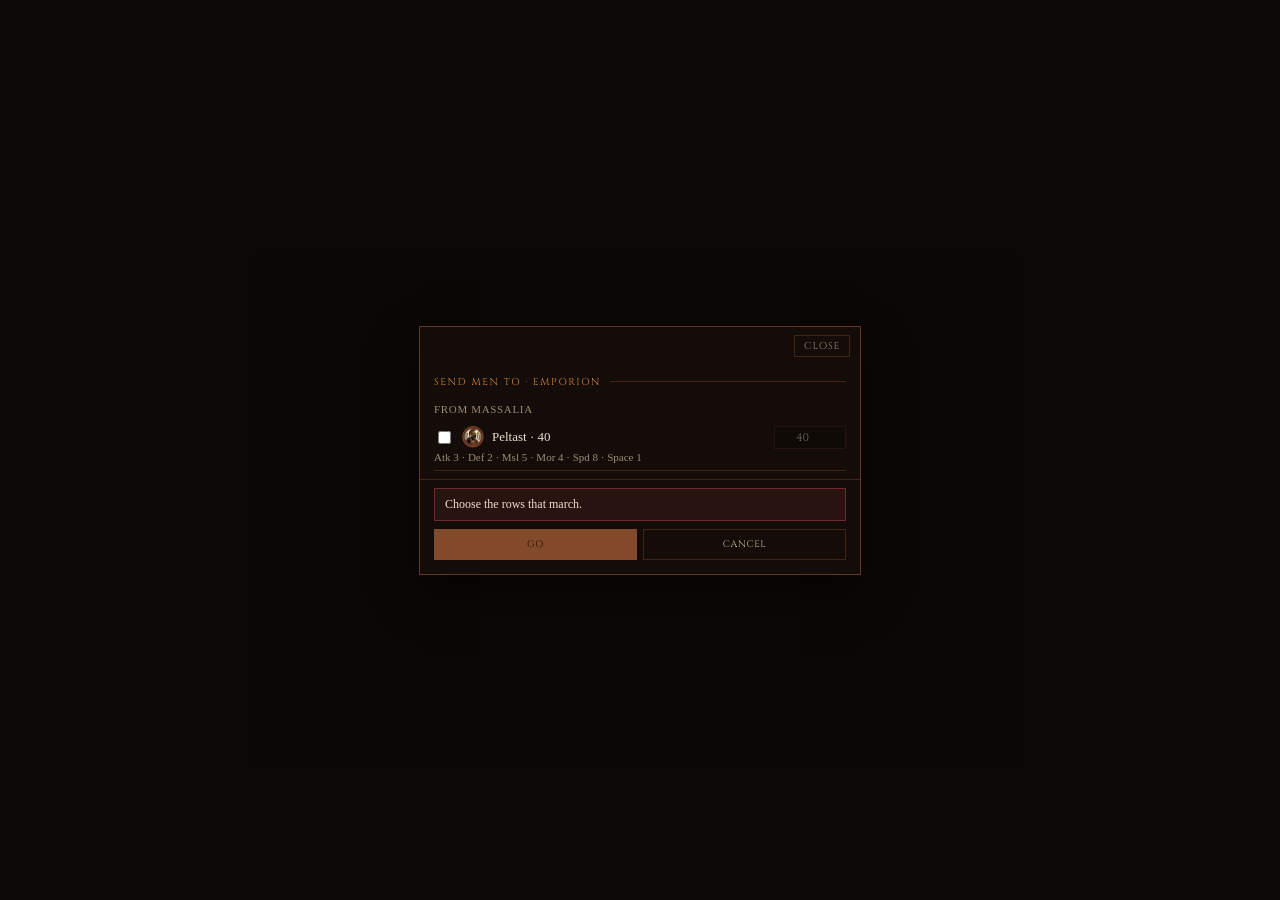
action picker · ships section › a sea move names the hulls that will sail and their supplies
Step 1. Click the checkbox named "Peltast, 40" → click(444, 437), box [438, 430, 451, 444]
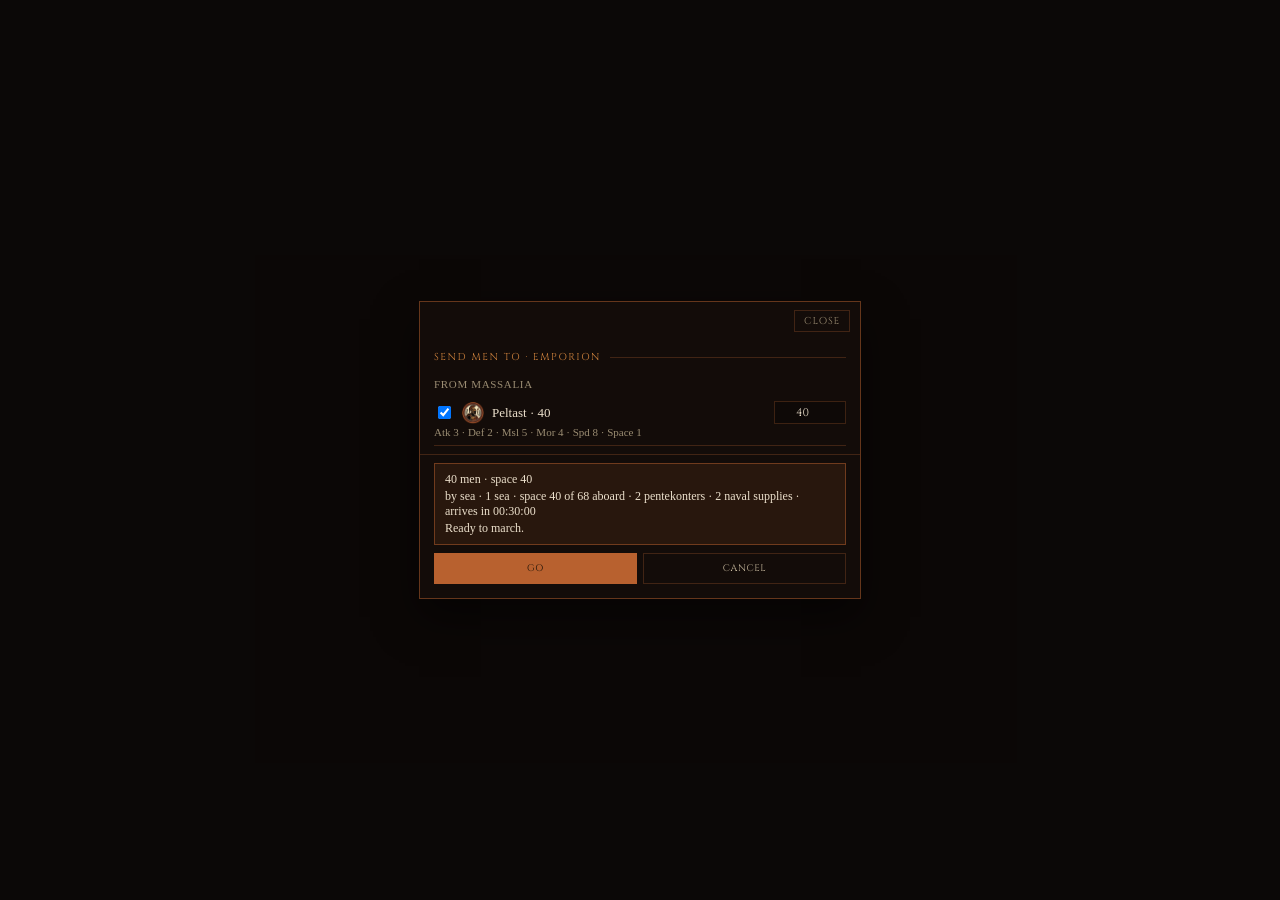
Check: the element with class "w2map-verdict" shows "by sea · 1 sea · space 40 of 68 aboard · 2 pentekonters", box [445, 489, 705, 503]
Check: the element with class "w2map-verdict" shows "· 2 naval supplies", box [705, 489, 793, 503]
Check: the element with class "w2map-verdict" shows "Ready to march.", box [445, 521, 524, 535]
